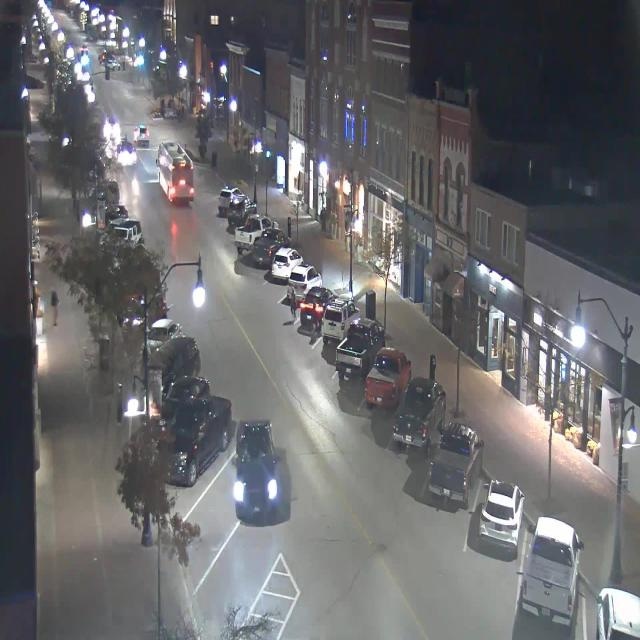available: (189, 467, 255, 548), (220, 515, 280, 598)
occupied: (521, 514, 584, 628), (165, 399, 236, 488), (428, 420, 483, 509), (392, 375, 446, 455), (478, 478, 525, 558), (334, 311, 384, 386), (364, 346, 411, 410), (147, 334, 205, 378), (595, 586, 640, 640), (321, 295, 365, 345), (160, 372, 217, 408), (298, 282, 333, 328), (252, 227, 289, 270), (234, 214, 270, 257), (286, 262, 322, 299), (226, 194, 258, 229), (271, 248, 305, 280), (211, 181, 242, 216)
